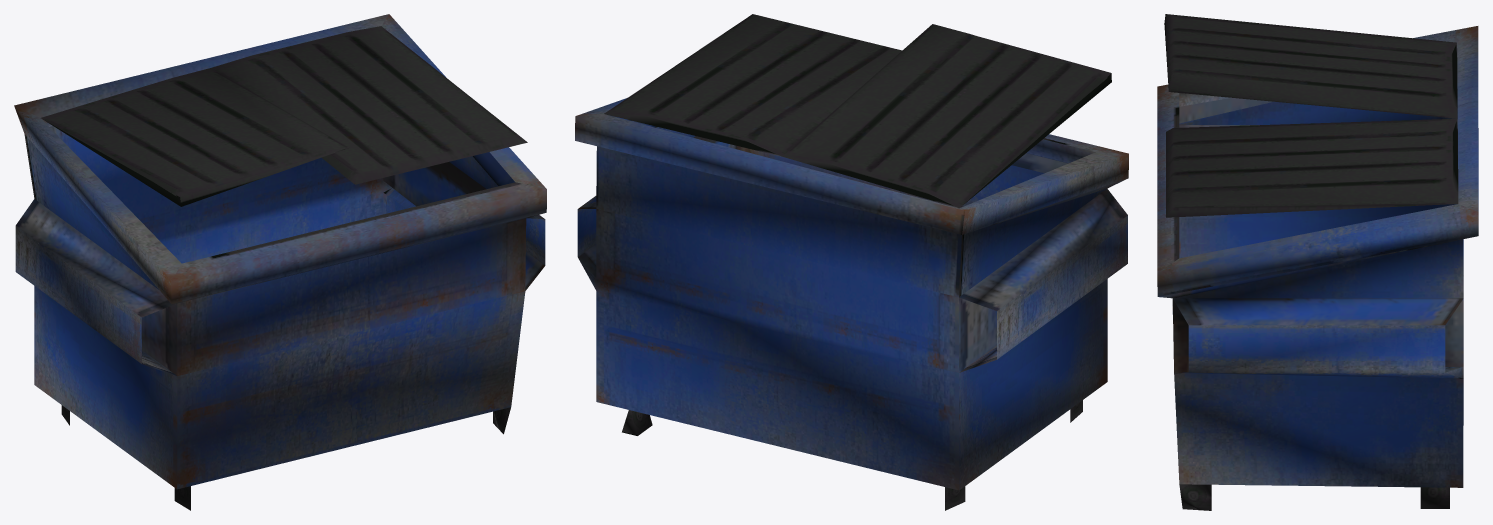
File: dumpster.obj
The picture shows the model from 3 angles, left to right: view 1: azimuth 30°, elevation 25°; view 2: azimuth 150°, elevation 25°; view 3: azimuth 270°, elevation 25°; orthographic projection. The views are drawn at different scales.
Bounding box in the file's own units: 4.04 × 3.19 × 2.74.
Materials: 1 (1 with a texture image).
